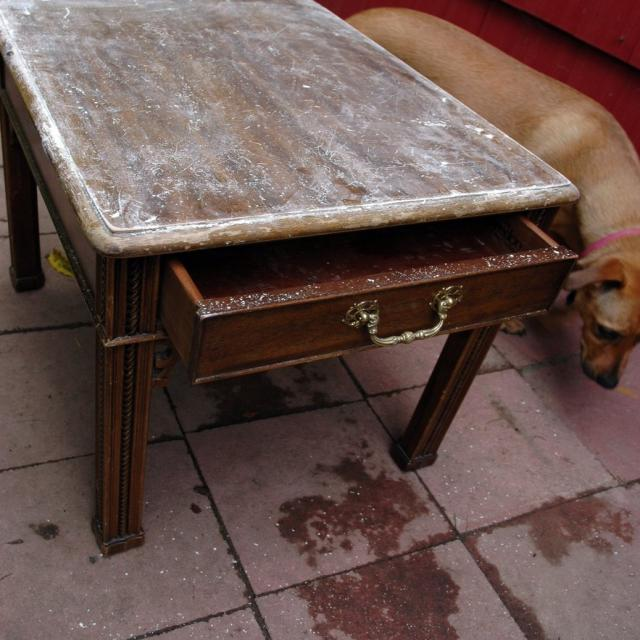desk: (0, 0, 584, 551)
